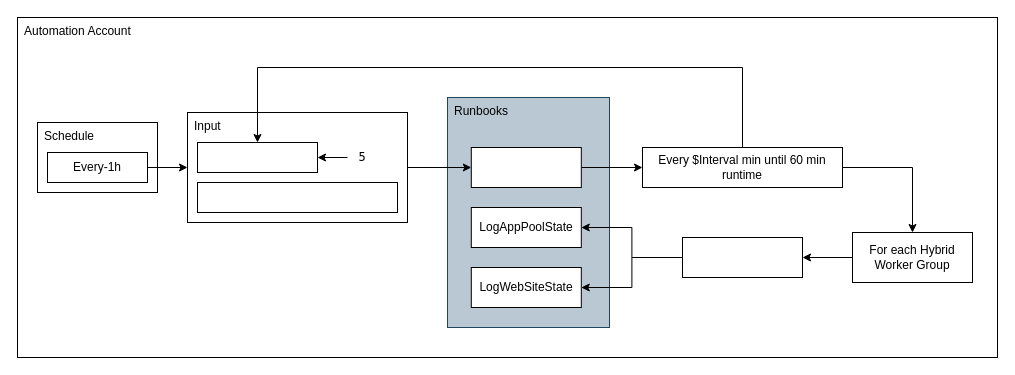
The diagram is 1015 pixels wide and 375 high, and some of its shapes have lost their labels. The centre of each missing label's shape, as x and y in pixels:
[int]Interval: pixel 257 157
[string]HybridWorkerGroups: pixel 297 197
Orchestrator: pixel 525 167
Start Parallel Jobs: pixel 742 257
